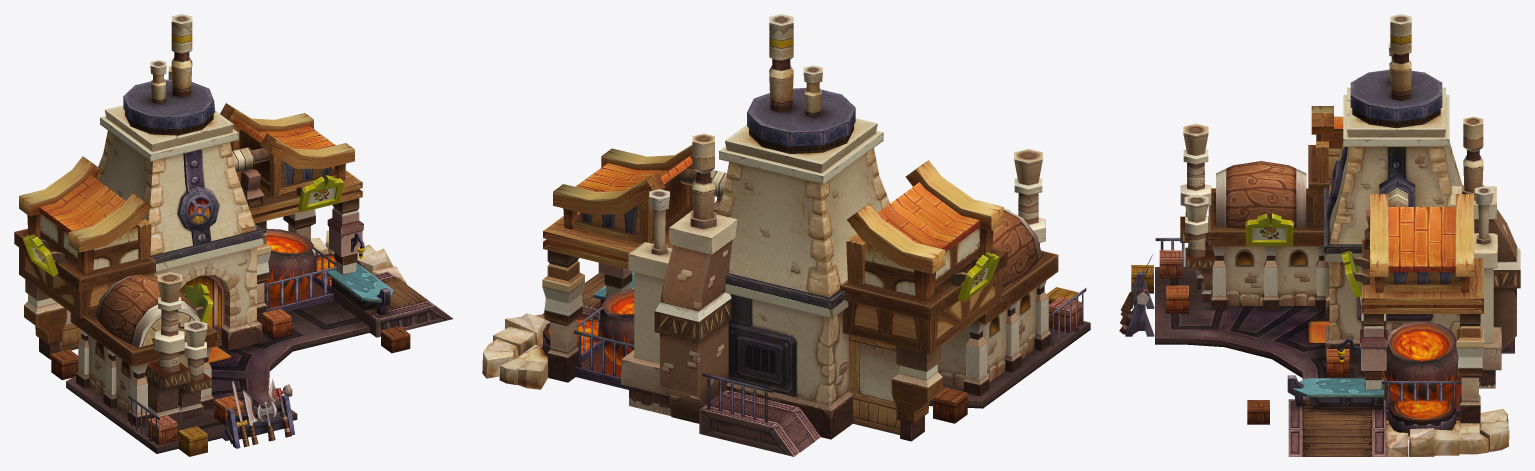
The picture shows the model from 3 angles, left to right: view 1: azimuth 30°, elevation 25°; view 2: azimuth 150°, elevation 25°; view 3: azimuth 270°, elevation 25°; orthographic projection. The views are drawn at different scales.
Parts seen in each view (by area): view 1: BigBlacksmith; view 2: BigBlacksmith; view 3: BigBlacksmith.
Boxes of the visible parts, x1=… form: BigBlacksmith: x1=14, y1=14, x2=453, y2=456; BigBlacksmith: x1=482, y1=14, x2=1090, y2=456; BigBlacksmith: x1=1119, y1=14, x2=1520, y2=456.
Bounding box in the file's own units: 7.79 × 6.14 × 6.8.
2 materials, 2 textured.
